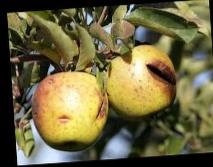rotten apple: (105, 42, 188, 139), (30, 72, 110, 153)
